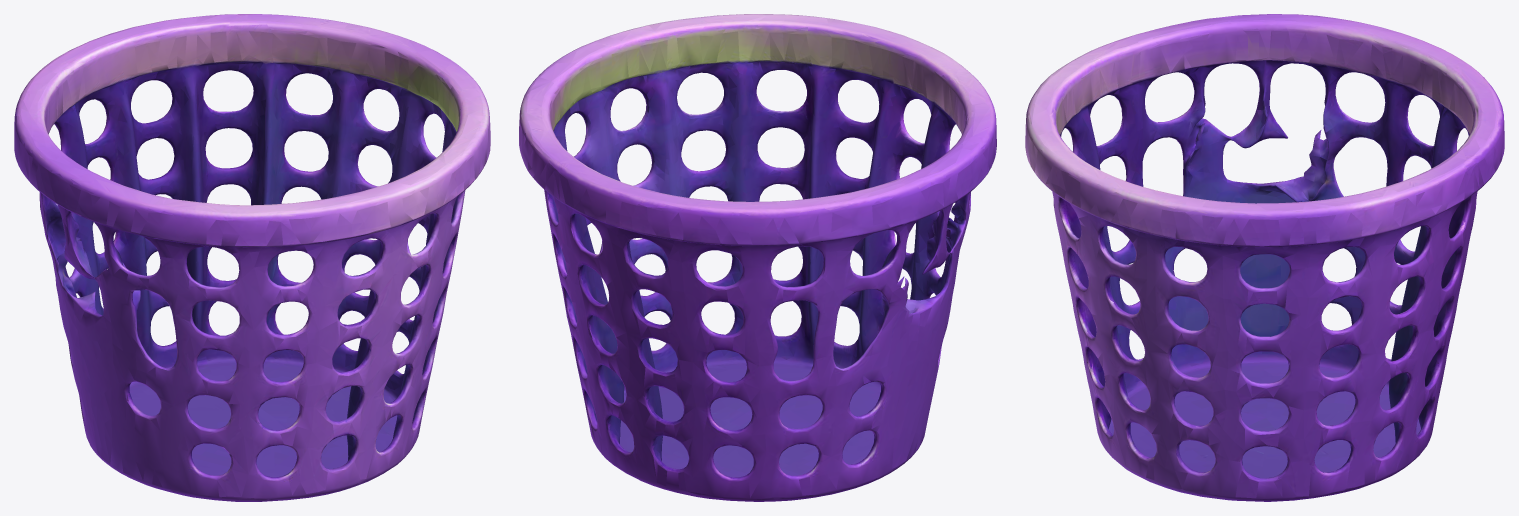
File: basket_v2_tripo.glb
The picture shows the model from 3 angles, left to right: view 1: azimuth 30°, elevation 25°; view 2: azimuth 150°, elevation 25°; view 3: azimuth 270°, elevation 25°; orthographic projection.
Visible parts, largest first — view 1: tripo_node_c9671d69-f869-4093-82db-61688ba01678; view 2: tripo_node_c9671d69-f869-4093-82db-61688ba01678; view 3: tripo_node_c9671d69-f869-4093-82db-61688ba01678.
Boxes of the visible parts, x1=… form: tripo_node_c9671d69-f869-4093-82db-61688ba01678: x1=14, y1=14, x2=490, y2=501; tripo_node_c9671d69-f869-4093-82db-61688ba01678: x1=519, y1=14, x2=996, y2=501; tripo_node_c9671d69-f869-4093-82db-61688ba01678: x1=1025, y1=14, x2=1504, y2=501.
Size of the model in its own units: 0.9781 by 0.7335 by 0.98.
Materials: 1 (1 with a texture image).
